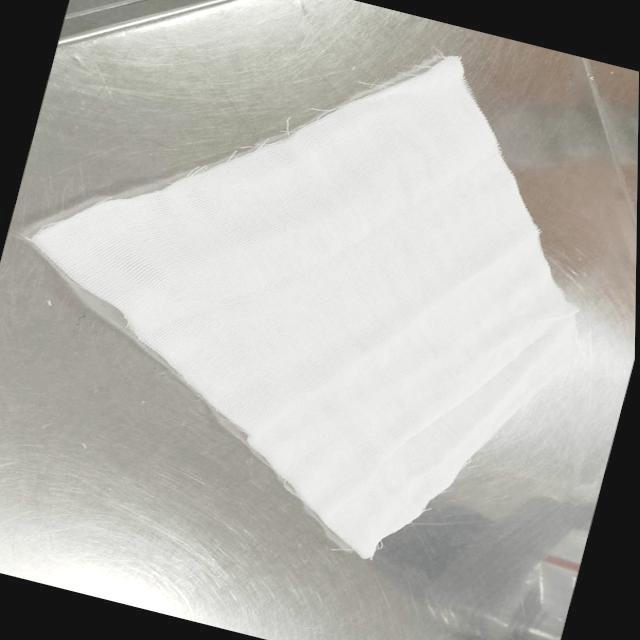Infectious: (20, 51, 584, 561)
